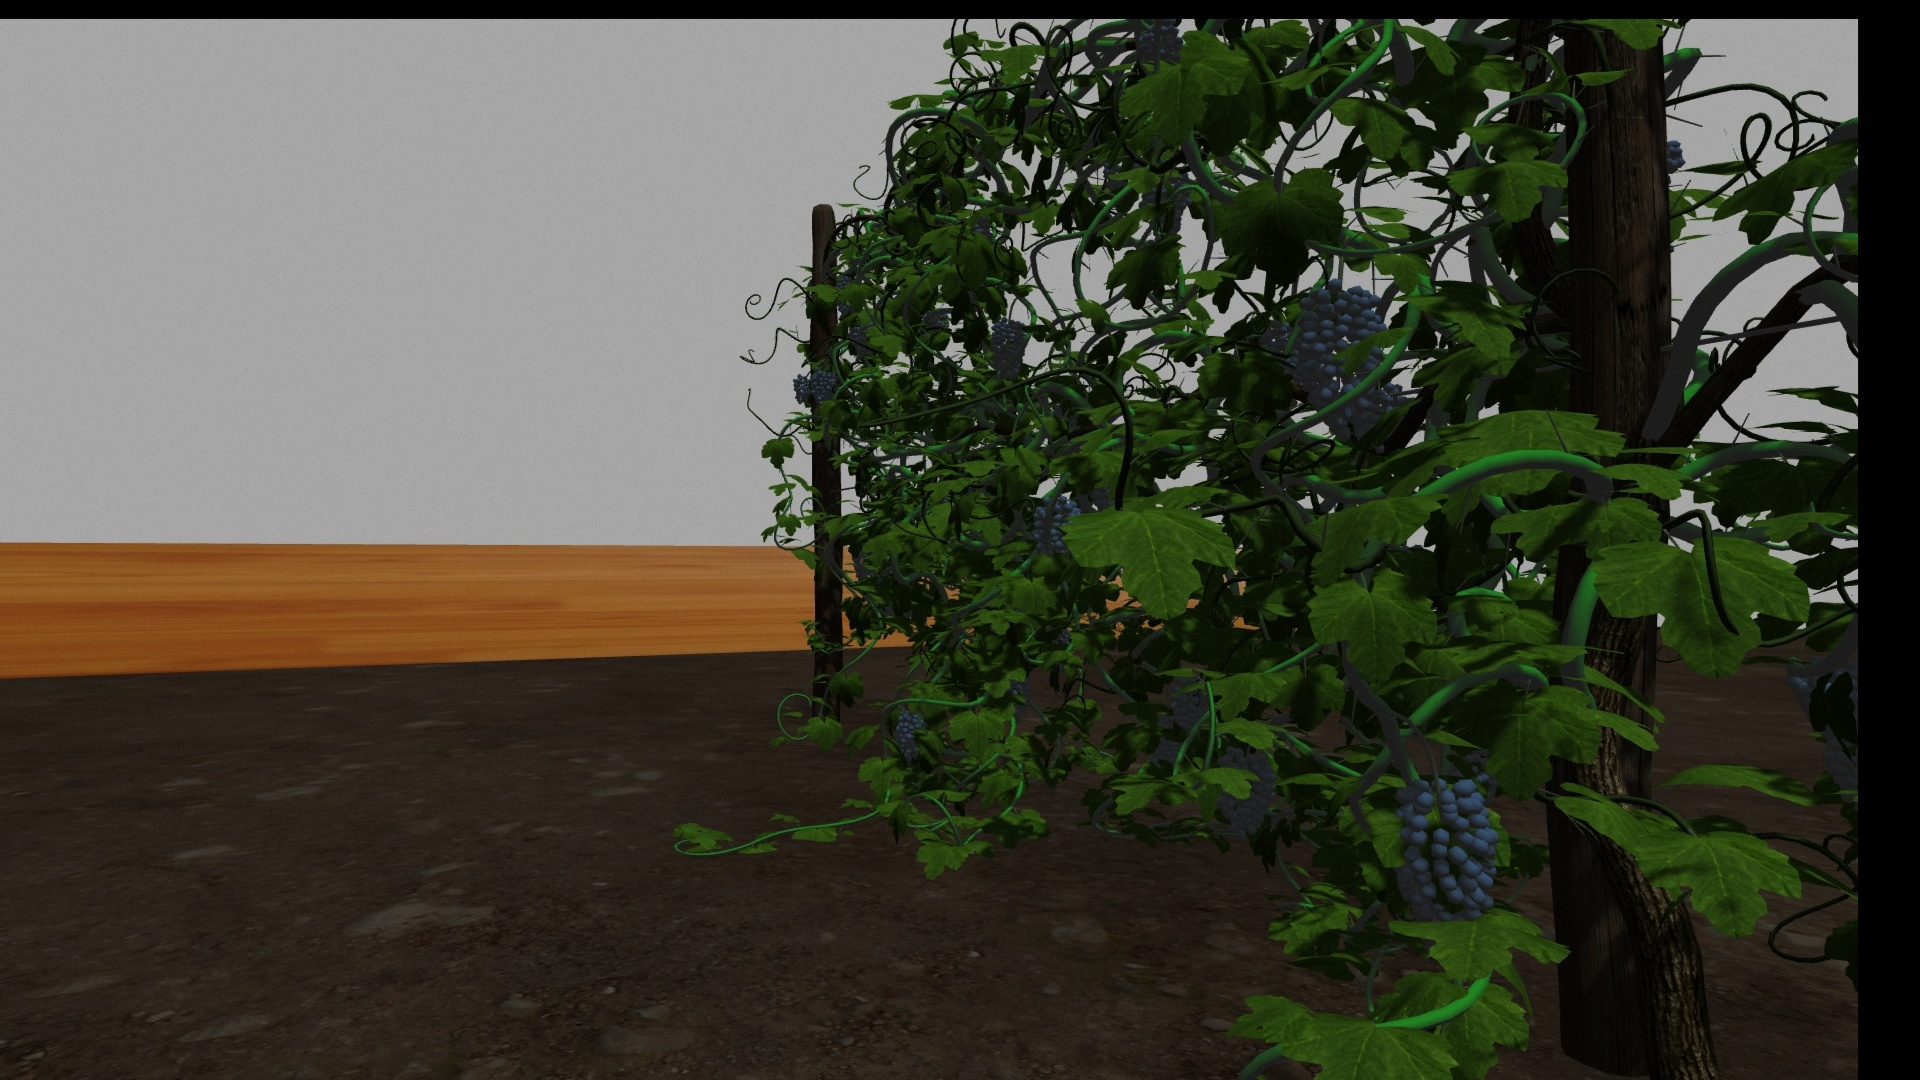grape: (1396, 775, 1505, 931), (1295, 280, 1391, 436), (1215, 744, 1276, 841), (1030, 491, 1080, 564), (1170, 673, 1211, 733), (988, 316, 1029, 375), (894, 709, 928, 764), (1137, 26, 1183, 65), (808, 368, 837, 404), (791, 371, 812, 405)
